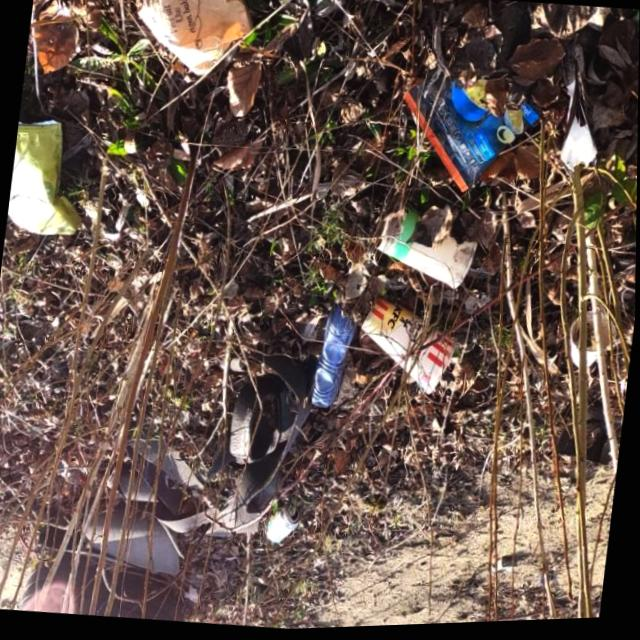Can-Metal: (264, 498, 304, 548)
Cup: (353, 291, 462, 402), (378, 193, 481, 289)
Paper: (125, 0, 257, 83)
Plastic: (390, 62, 548, 207), (5, 113, 94, 240), (547, 49, 609, 180)
